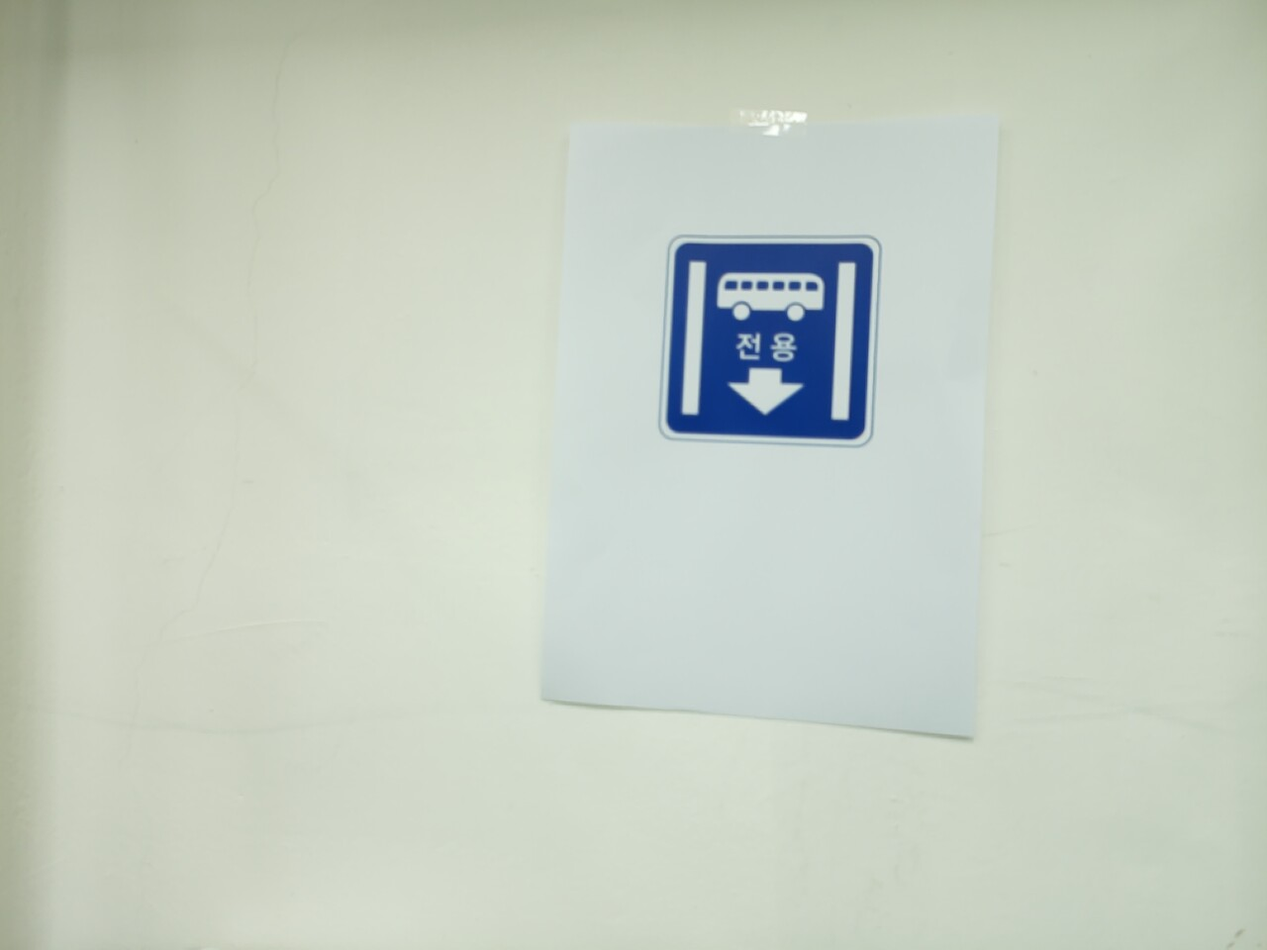bus_only_lane: (658, 235, 882, 448)
